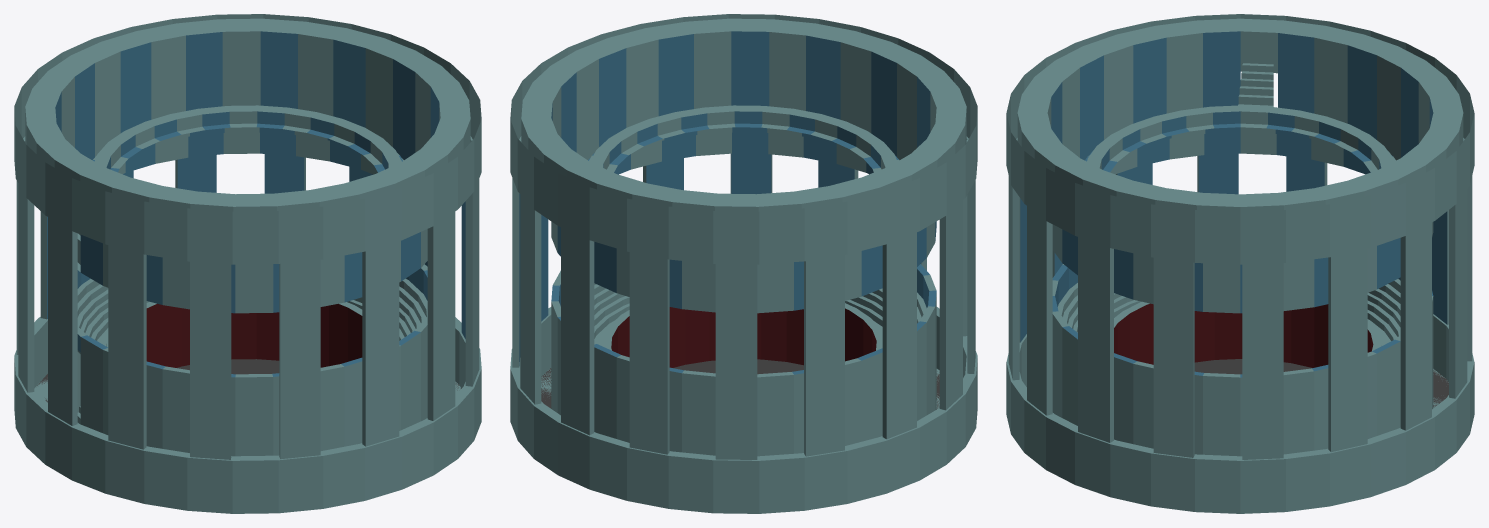
Rendered from Arena.fbx.
3 renders of one model, left to right at view 1: azimuth 30°, elevation 25°; view 2: azimuth 150°, elevation 25°; view 3: azimuth 270°, elevation 25°, orthographic.
Parts seen in each view (by area): view 1: Cylinder.001; view 2: Cylinder.001; view 3: Cylinder.001.
Part boxes in pixels (x1=…): Cylinder.001: x1=14, y1=14, x2=481, y2=513; Cylinder.001: x1=510, y1=14, x2=977, y2=513; Cylinder.001: x1=1006, y1=14, x2=1474, y2=513.
Size of the model in its own units: 8000 by 5700 by 8000.
